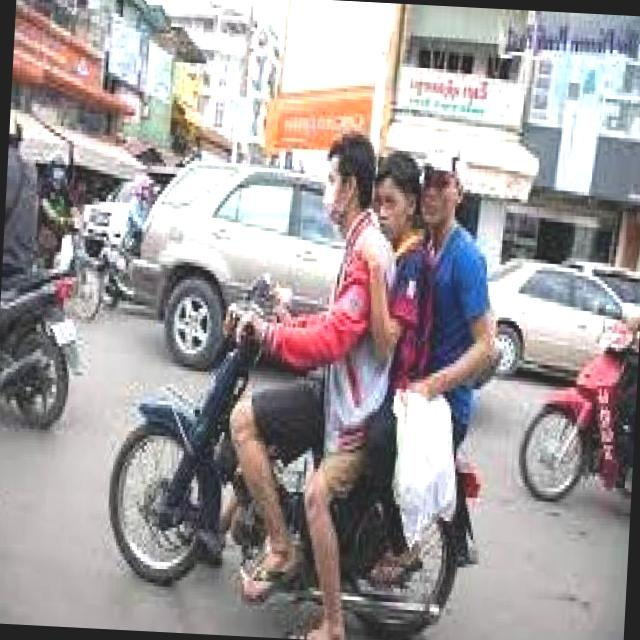motorcycle: (97, 265, 496, 640)
person: (283, 127, 402, 506), (402, 134, 514, 497), (340, 142, 438, 514)
rider_region: (100, 130, 509, 634)
